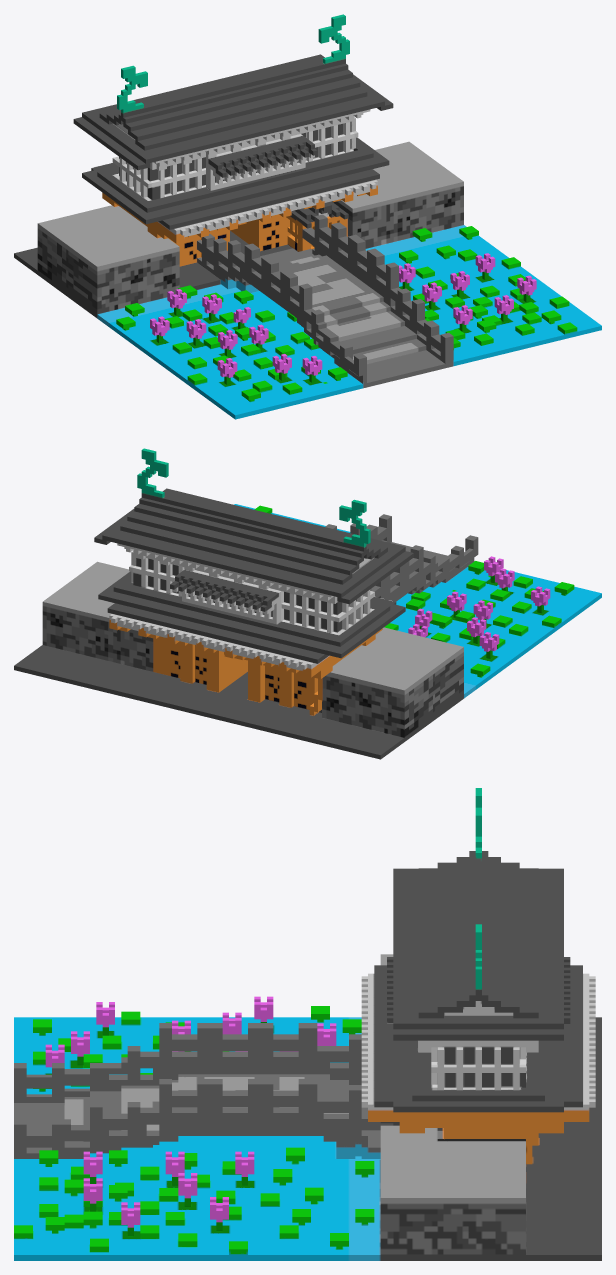
The model's file is goromon.glb.
3 renders of one model, top to bottom at view 1: azimuth 30°, elevation 25°; view 2: azimuth 150°, elevation 25°; view 3: azimuth 270°, elevation 25°, orthographic. The views are drawn at different scales.
Parts seen in each view (by area): view 1: goromon; view 2: goromon; view 3: goromon.
Part boxes in pixels (bbox=[...]): goromon: bbox=[14, 14, 601, 419]; goromon: bbox=[14, 448, 601, 759]; goromon: bbox=[14, 788, 601, 1260].
Size of the model in its own units: 1.78 by 0.96 by 1.86.
1 material, 1 textured.
